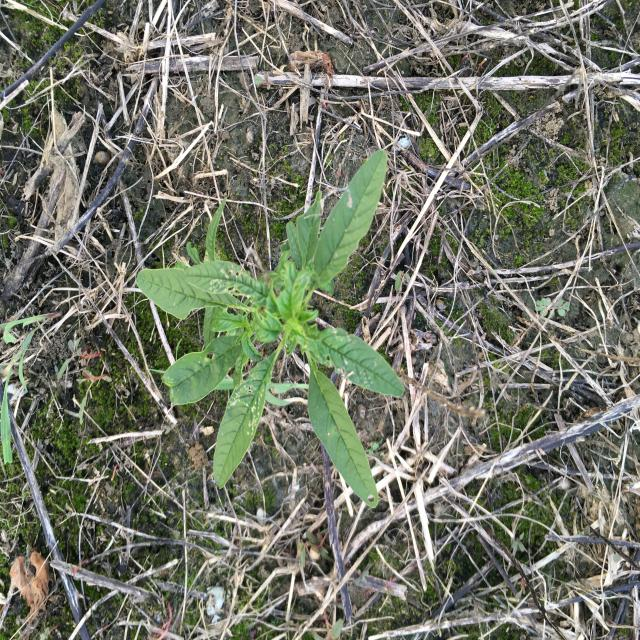Waterhemp: (134, 146, 406, 510)
